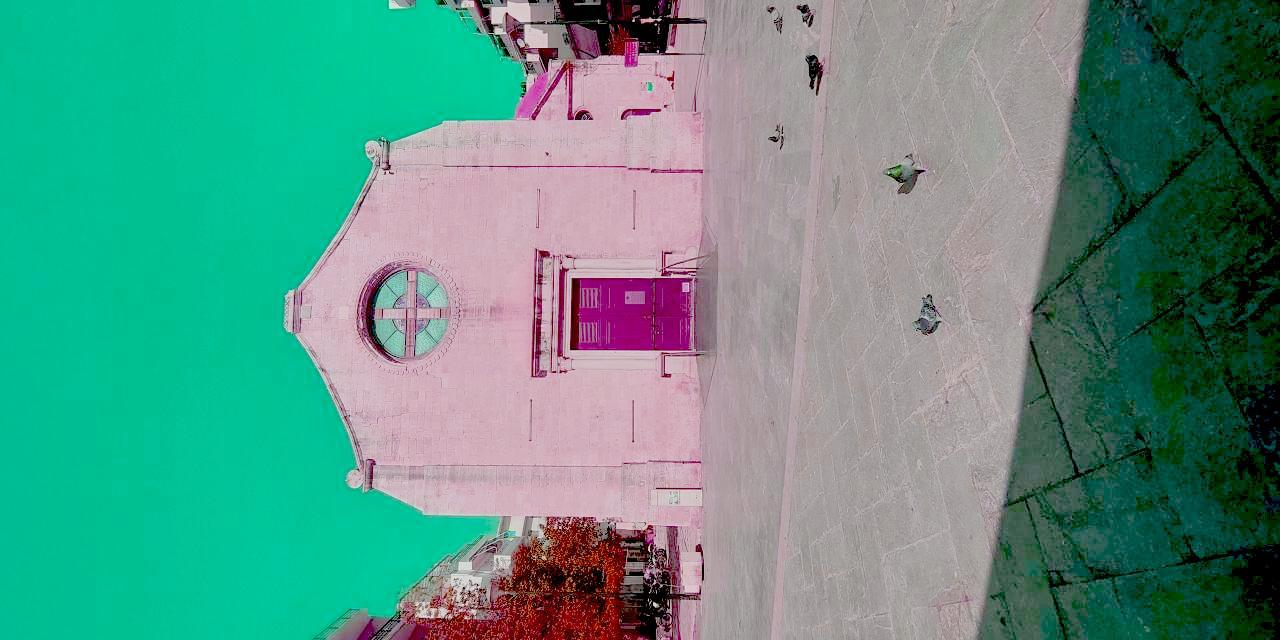Agia Aikaterini: (281, 97, 705, 550)
